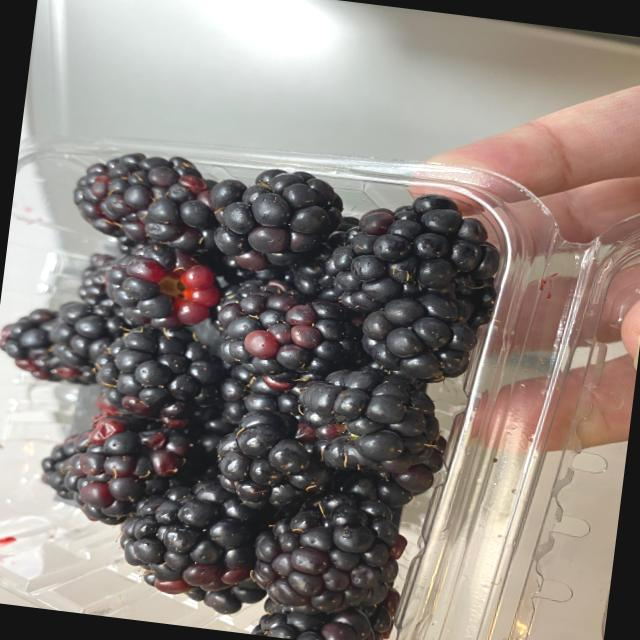blackberries: (0, 152, 509, 640)
